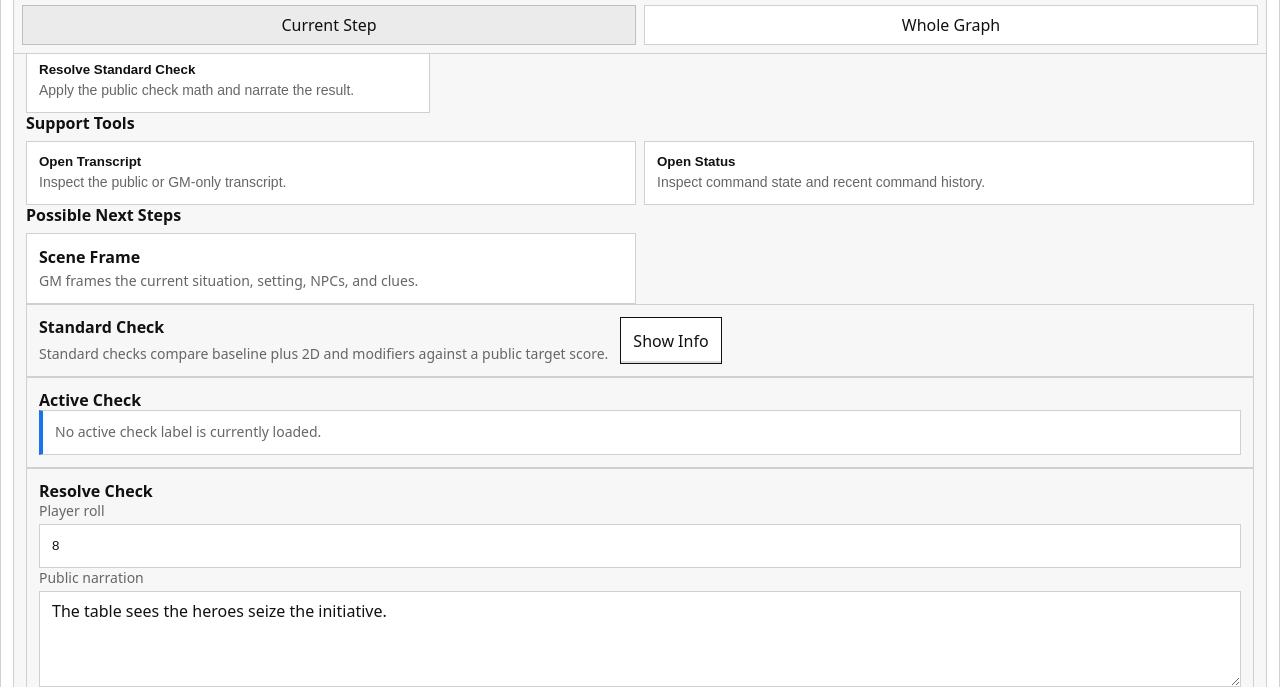
Test: GMGameplayPage › expands the rules info widget
(page scrolled)
Click the button "Show Info".
click(671, 341)  # box [620,317,722,364]
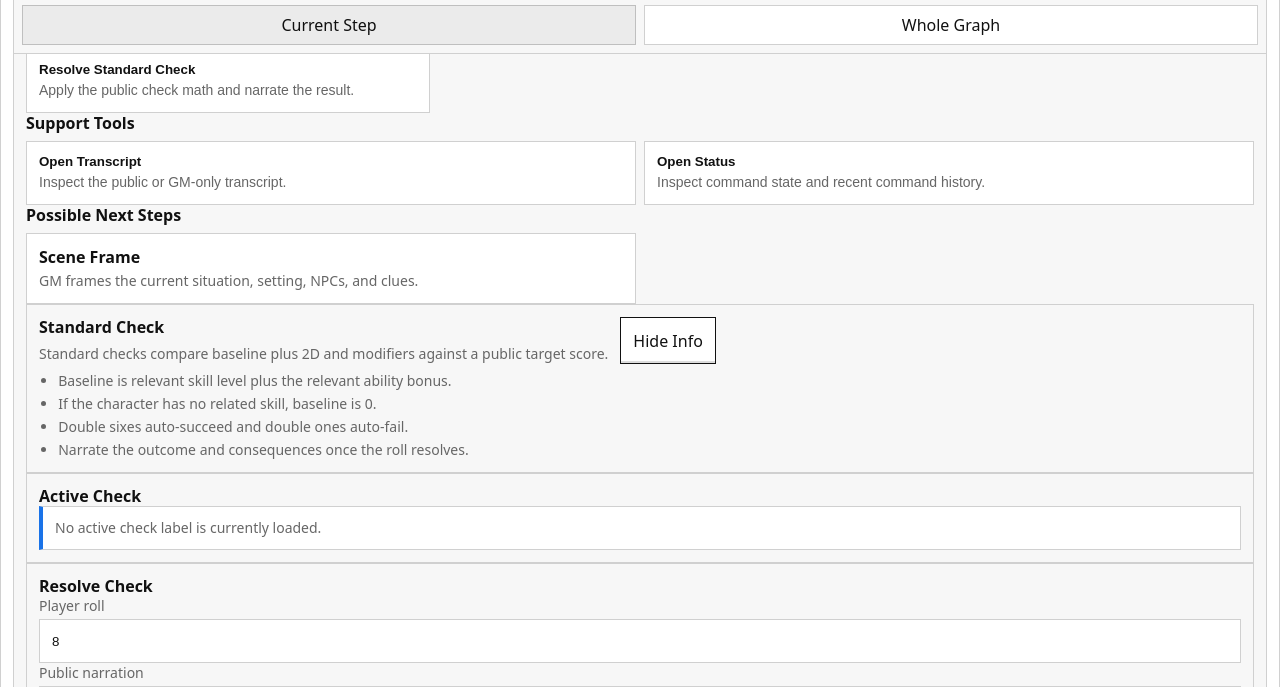
Now the list item "Double sixes auto-succeed and double ones auto-fail." is shown, box [58,417,408,436]
